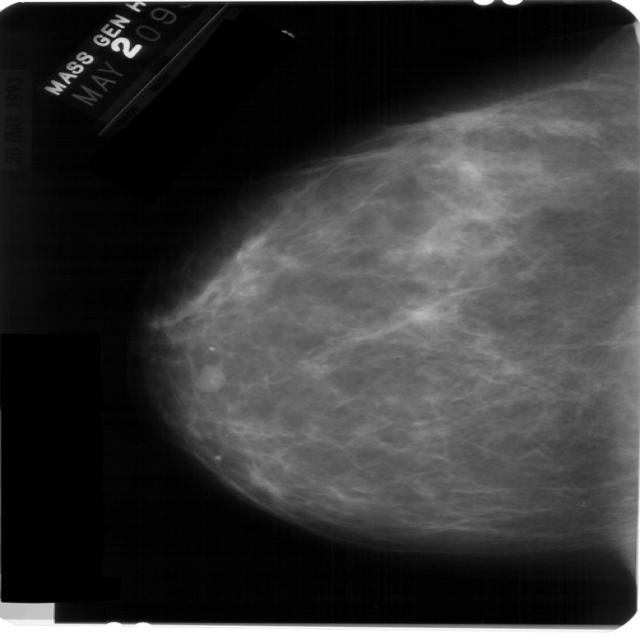tumour: (191, 362, 226, 392)
